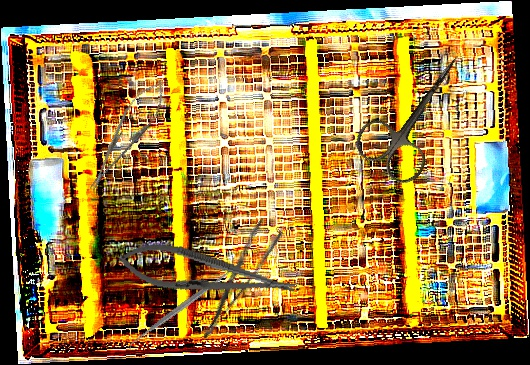Dressing Forceps: (183, 216, 286, 341)
Iris Scissors: (347, 35, 490, 190)
Needle Holder: (115, 235, 299, 312), (78, 72, 175, 198)
Spatula Surgical: (123, 262, 240, 353)
